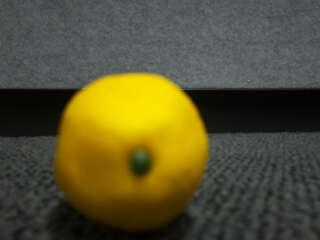lemon: (53, 75, 208, 234)
